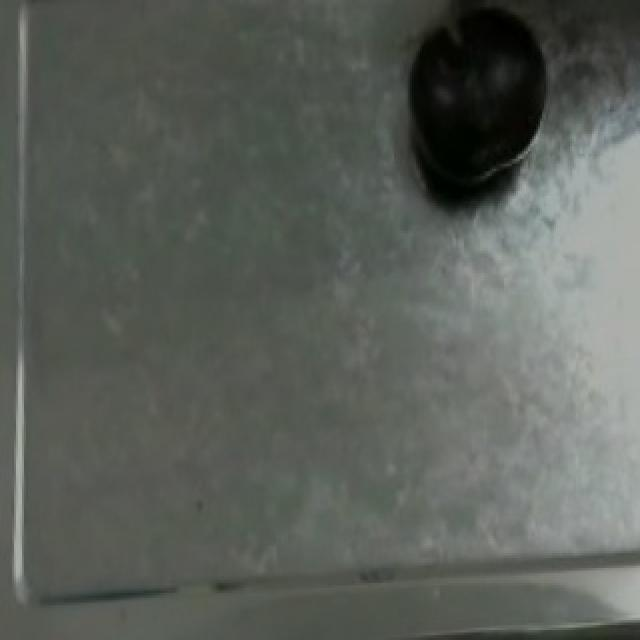Fruit: (394, 0, 566, 216)
